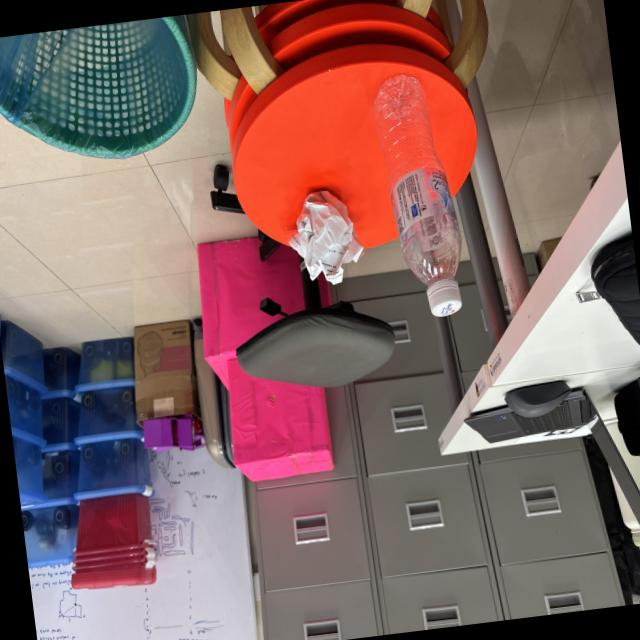crumpled_paper: (277, 176, 370, 294)
plastic_bottle: (363, 63, 473, 329)
